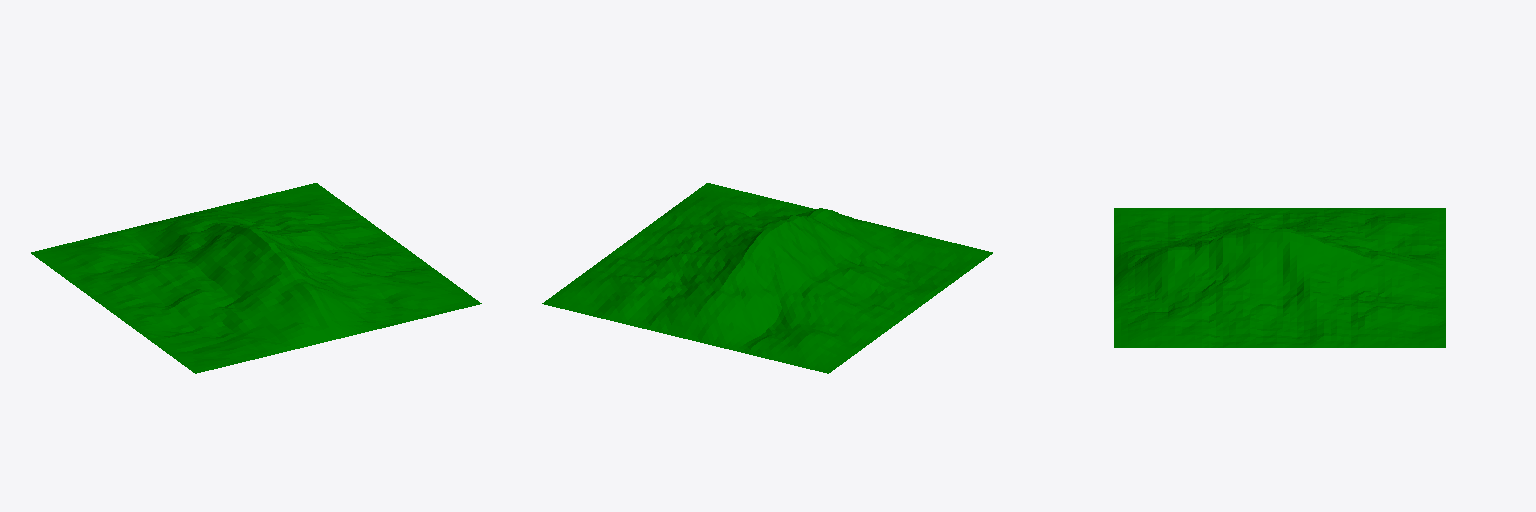
The picture shows the model from 3 angles: view 1: azimuth 30°, elevation 25°; view 2: azimuth 150°, elevation 25°; view 3: azimuth 270°, elevation 25°; orthographic projection.
Visible parts, largest first — view 1: skpEAED_001; view 2: skpEAED_001; view 3: skpEAED_001.
Boxes of the visible parts, box(x1,y1,x2,y2) form: skpEAED_001: box(31, 183, 481, 373); skpEAED_001: box(542, 183, 992, 373); skpEAED_001: box(1114, 208, 1445, 347).
Bounding box in the file's own units: 4704 × 806 × 4704.